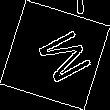M_SW: (22, 23, 88, 87)
